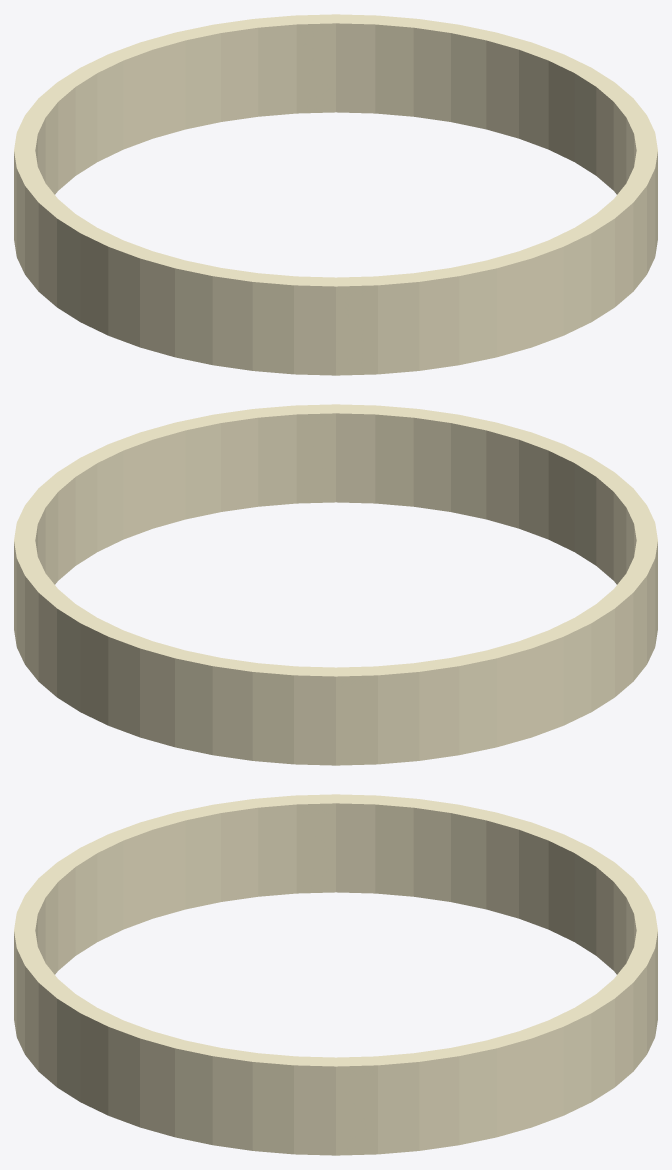
The model's file is muro circular.fbx.
3 views of the same model, one above another, from view 1: azimuth 30°, elevation 25°; view 2: azimuth 150°, elevation 25°; view 3: azimuth 270°, elevation 25° (orthographic).
Parts seen in each view (by area): view 1: Círculo; view 2: Círculo; view 3: Círculo.
Part boxes in pixels (x1=…): Círculo: x1=14, y1=14, x2=657, y2=375; Círculo: x1=14, y1=404, x2=657, y2=765; Círculo: x1=14, y1=794, x2=657, y2=1155.
Size of the model in its own units: 600 by 91.57 by 600.
